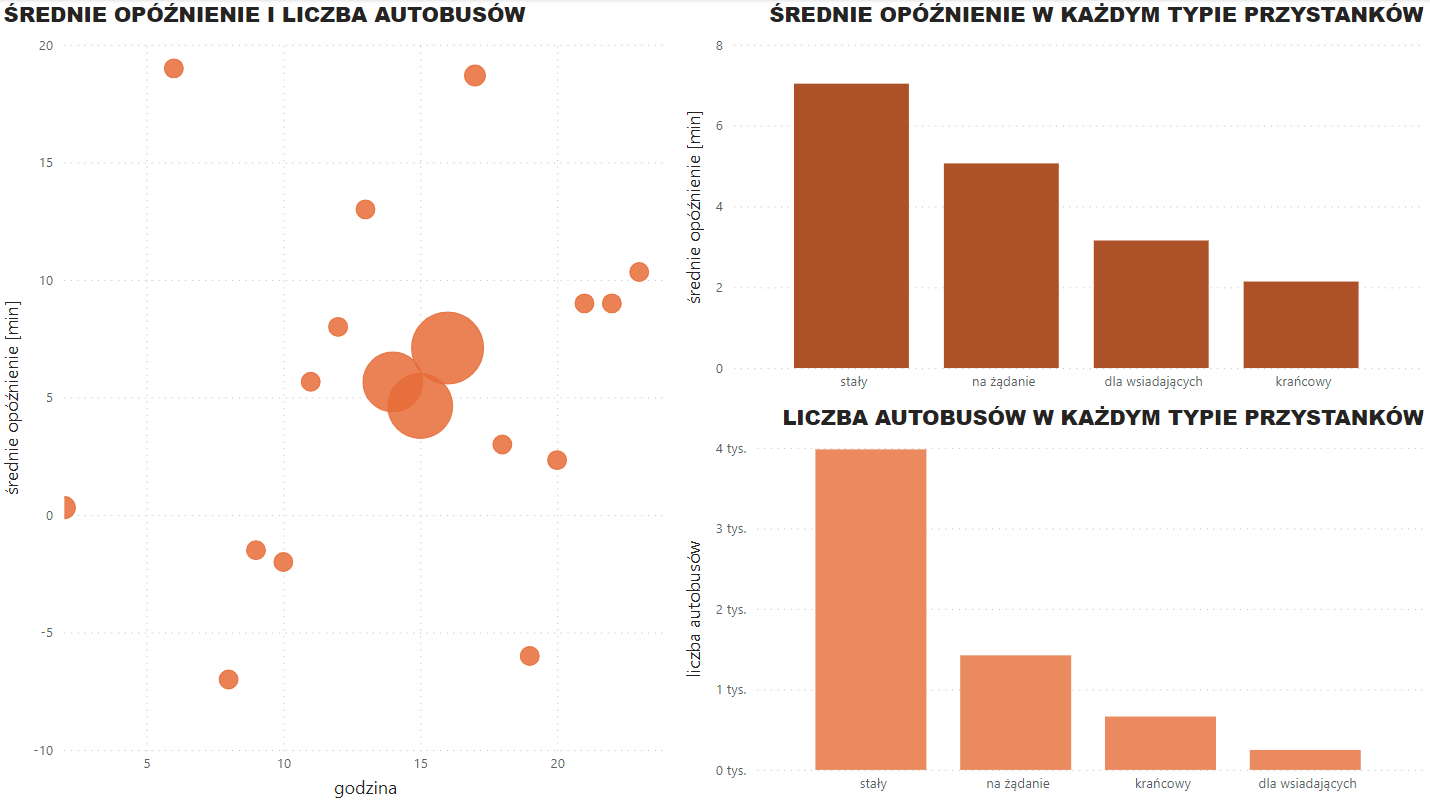

Layout of this report page (visuals, bound fields, positions):
{"tool":"powerbi","page":{"name":"Strona 1","canvas":[1280,720],"ordinal":4},"visuals":[{"type":"columnChart","fields":{"Category":["DimScheduledArr.TypeName"],"Y":["Avg(FactDelays.delay)"]},"box":[0,0,640,394.9],"z":0},{"type":"columnChart","fields":{"Category":["DimScheduledArr.TypeName"],"Y":["CountNonNull(FactDelays.bus_id)"]},"box":[640,0,640,394.9],"z":1000},{"type":"columnChart","fields":{"Y":["CountNonNull(FactDelays.bus_id)"],"Category":["DimStops.nazwa_zespolu"],"Series":["DimScheduledArr.TypeName"]},"box":[0,394.9,1280,324.9],"z":1001}]}

Visuals, with their boxes in screenshot pixels (x1, y1, x2, y2), scaled from the page's 1280x720 canvas onto the 1430x804 screenshot:
columnChart - DimScheduledArr.TypeName x Avg(FactDelays.delay): left=0, top=0, right=715, bottom=441
columnChart - DimScheduledArr.TypeName x CountNonNull(FactDelays.bus_id): left=715, top=0, right=1429, bottom=441
columnChart - CountNonNull(FactDelays.bus_id) x DimStops.nazwa_zespolu: left=0, top=441, right=1429, bottom=803
